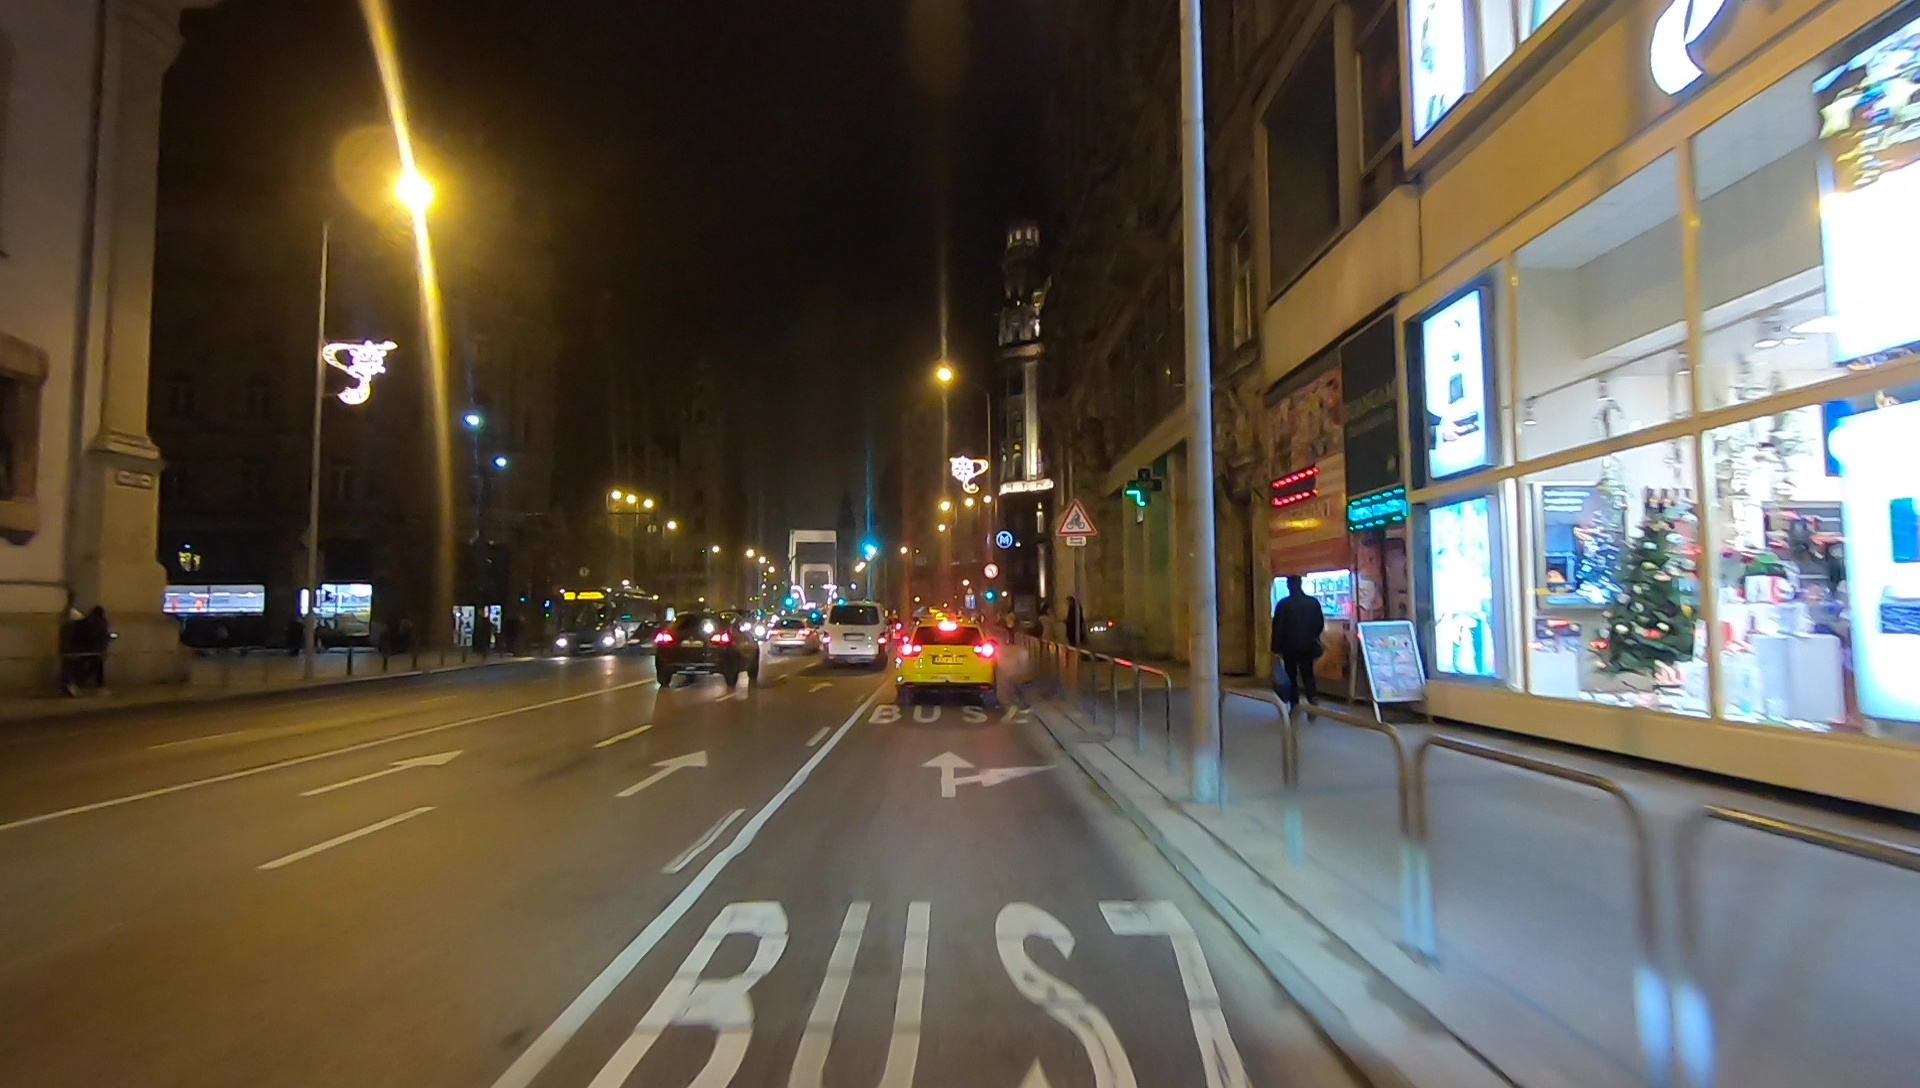person: (1268, 573, 1323, 720), (87, 607, 113, 701), (61, 610, 85, 692), (1039, 600, 1060, 682), (1060, 595, 1085, 663), (1006, 607, 1016, 643)
